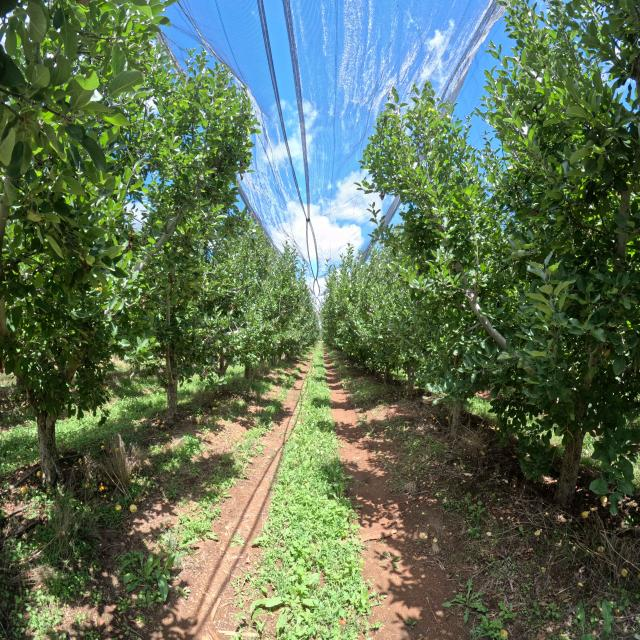-FireBlight-: (122, 226, 138, 254), (141, 290, 148, 309), (203, 367, 209, 378), (212, 355, 221, 362), (228, 304, 236, 311), (221, 349, 225, 353), (229, 348, 231, 353)
